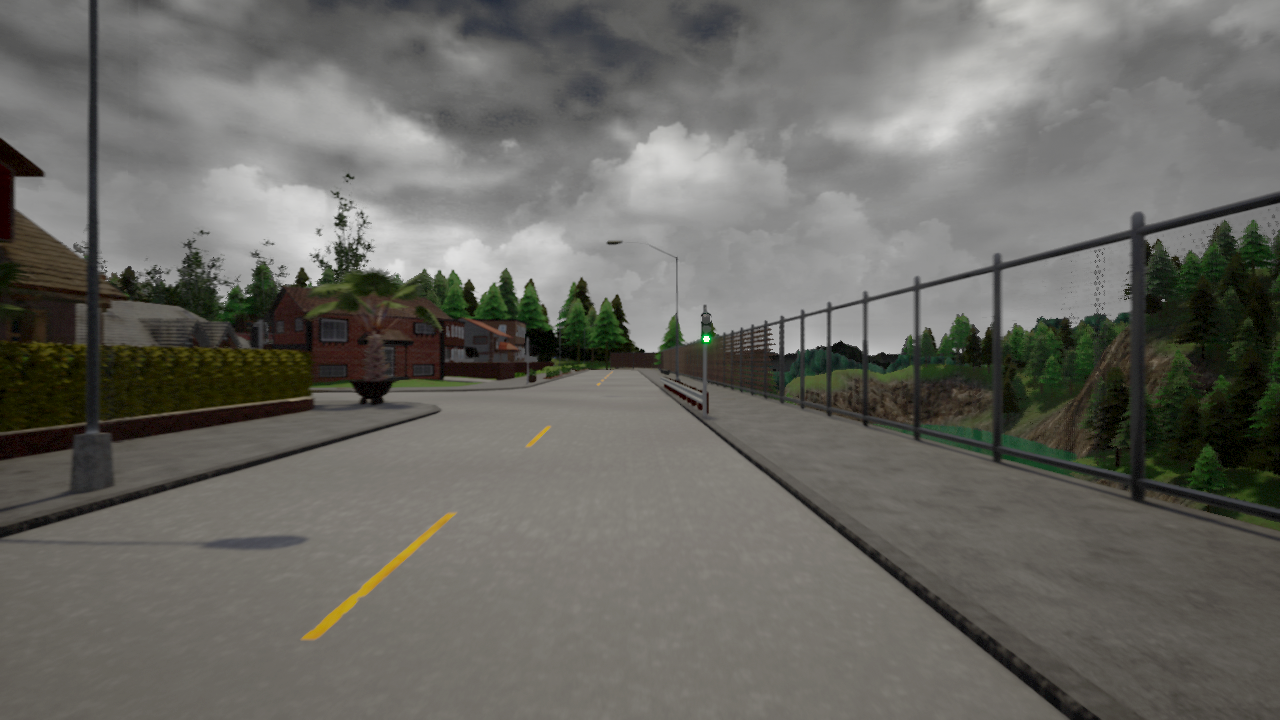green: (699, 312, 714, 345)
